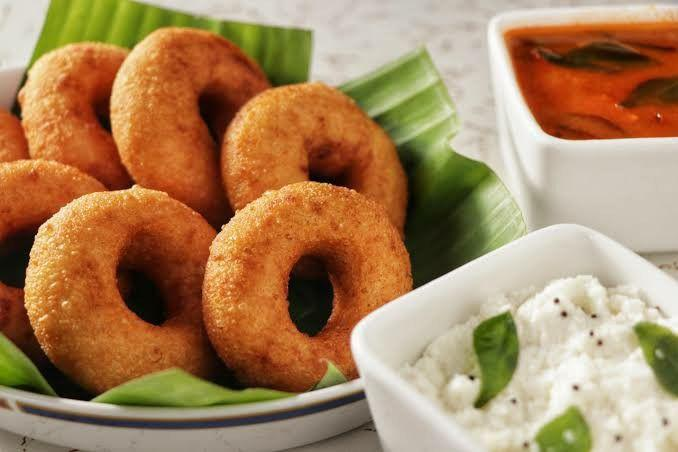coconut chutney: (399, 285, 678, 452)
medu vada: (4, 27, 400, 384)
sambhar: (491, 19, 674, 147)
